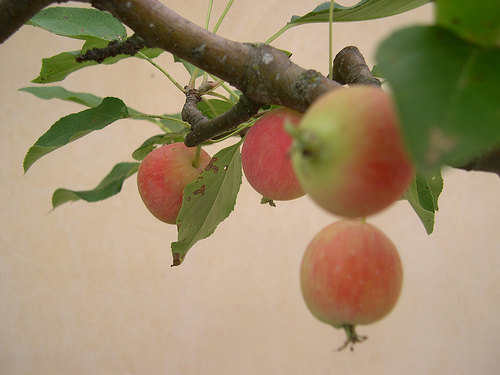apple: (302, 223, 402, 330)
